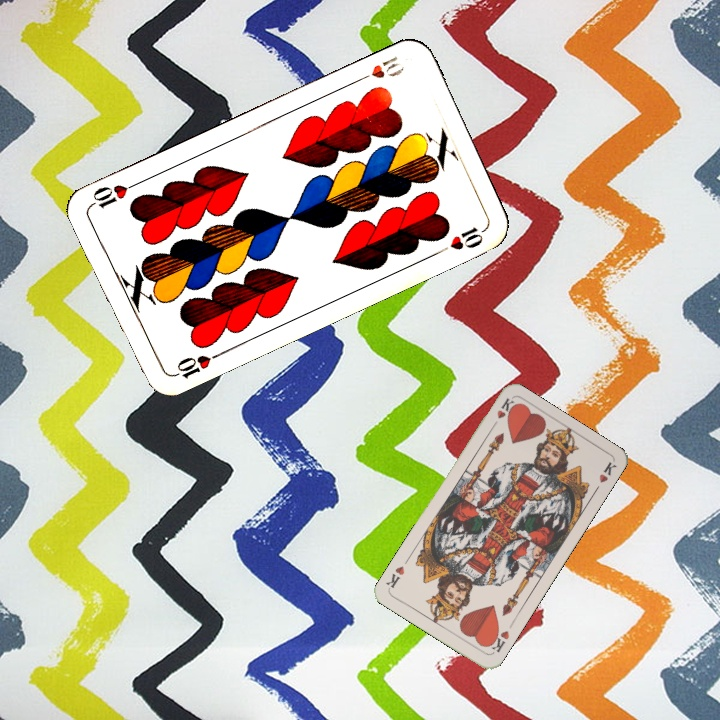H10: (168, 349, 224, 382), (352, 52, 407, 85)
HK: (487, 394, 517, 432), (484, 625, 512, 656)
